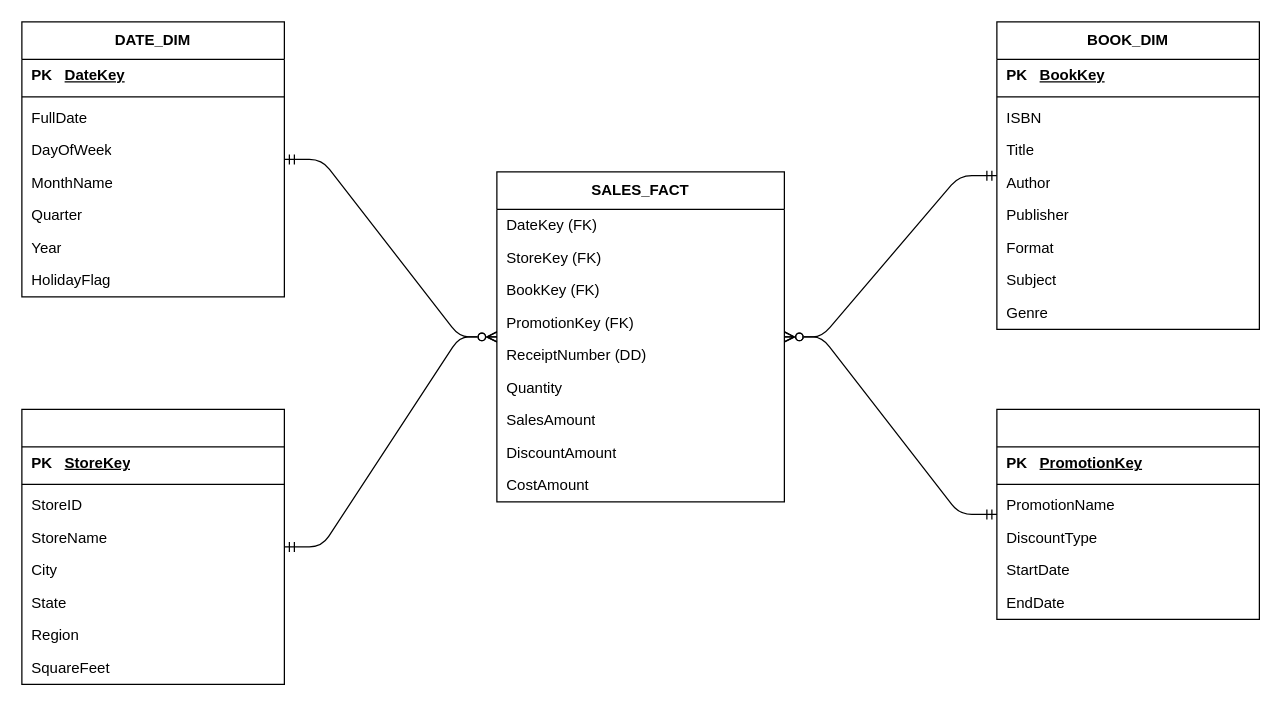
This 1281x706 diagram has some shape labels left out. Each missing label, with the box of its shape:
PROMOTION_DIM: (996, 408, 1259, 619)
STORE_DIM: (21, 408, 284, 684)
